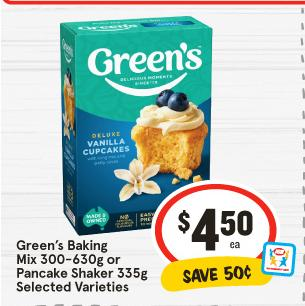description_block: (12, 234, 150, 301)
price_main: (167, 196, 267, 260)
product_image_block: (57, 20, 219, 211)
promo_text_block: (160, 261, 278, 287)
